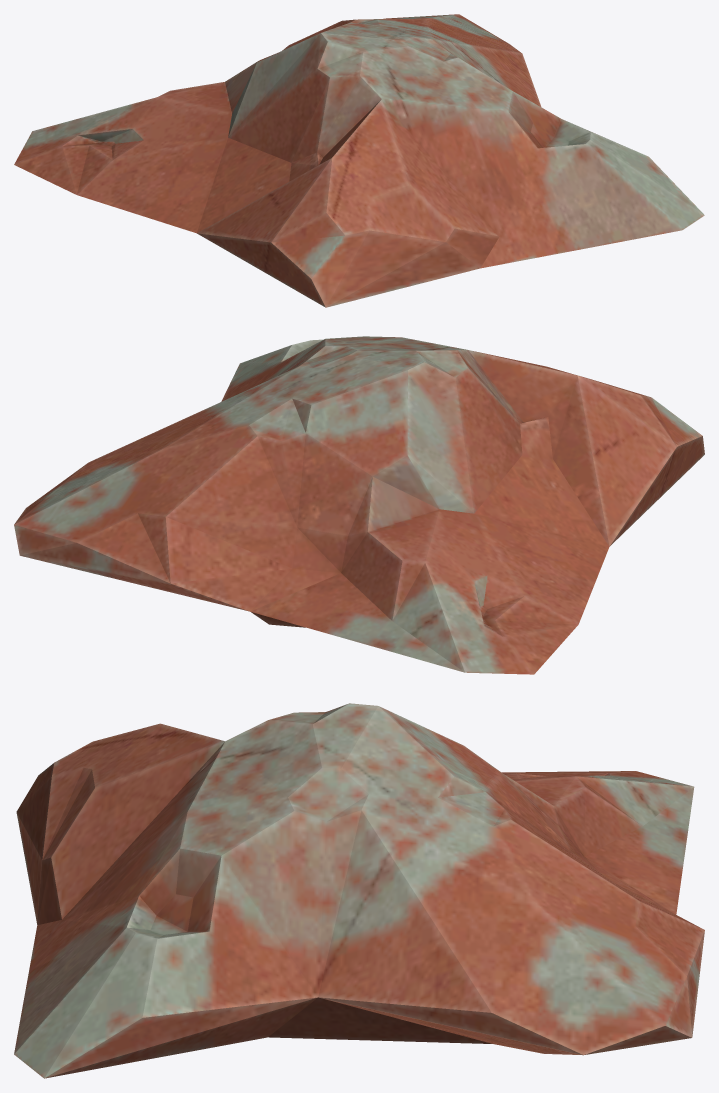
Rendered from CopperJunkCast.glb.
3 views of the same model, one above another, from view 1: azimuth 30°, elevation 25°; view 2: azimuth 150°, elevation 25°; view 3: azimuth 270°, elevation 25° (orthographic). The views are drawn at different scales.
Visible parts, largest first — view 1: CopperJunkCast; view 2: CopperJunkCast; view 3: CopperJunkCast.
Part boxes in pixels (x1,y1,x2,y2): CopperJunkCast: (14,14,704,307); CopperJunkCast: (14,336,704,674); CopperJunkCast: (14,703,704,1078).
Size of the model in its own units: 0.5571 by 0.1926 by 0.5258.
Materials: 1 (1 with a texture image).
